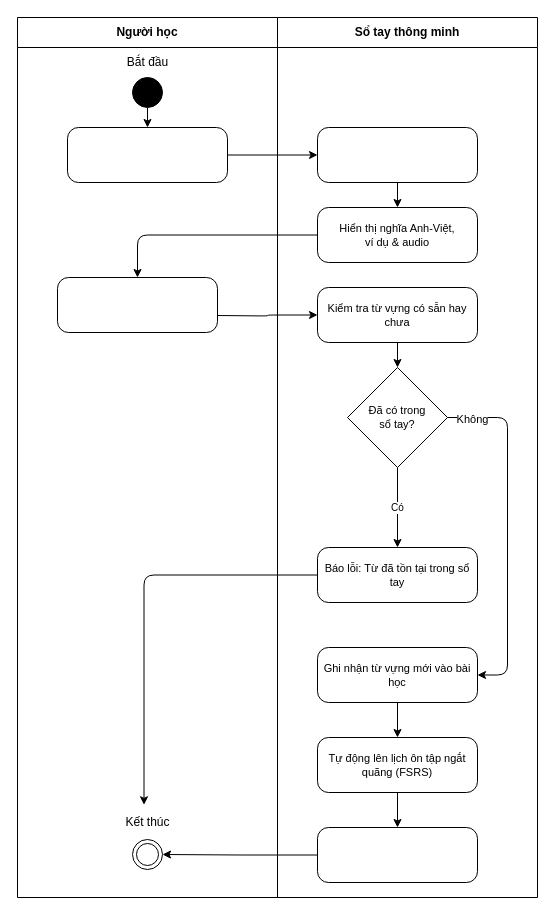
The diagram is 555 pixels wide and 915 high, and some of its shapes have lost their labels. Each missing label, with the centre of its shape:
Bấm nút Lưu vào Sổ tay: point (137, 304)
Nhập từ khóa cần tra cứu: point (147, 154)
Thông báo lưu từ thành công: point (397, 854)
Tìm kiếm thông tin từ điển: point (397, 154)
